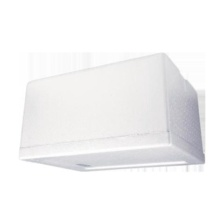foam_box: (11, 49, 212, 178)
